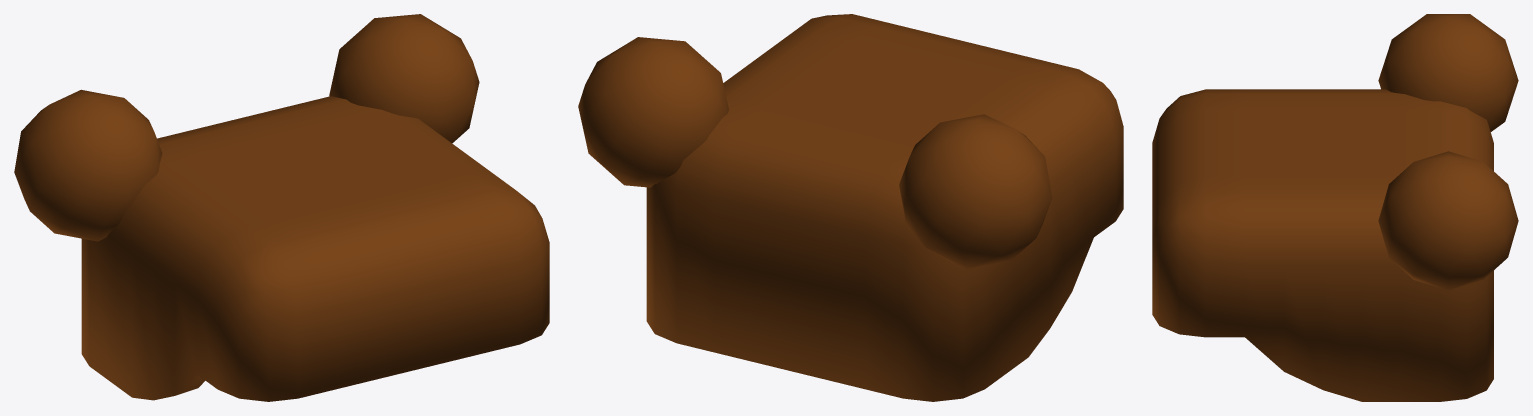
File: hairBuns.fbx
The picture shows the model from 3 angles, left to right: view 1: azimuth 30°, elevation 25°; view 2: azimuth 150°, elevation 25°; view 3: azimuth 270°, elevation 25°; orthographic projection. The views are drawn at different scales.
Parts seen in each view (by area): view 1: Buns Hair; view 2: Buns Hair; view 3: Buns Hair.
Part boxes in pixels (left/top/right/bottom): Buns Hair: left=14, top=14, right=549, bottom=401; Buns Hair: left=578, top=14, right=1123, bottom=401; Buns Hair: left=1152, top=14, right=1518, bottom=401.
Bounding box in the file's own units: 75.6 × 59.52 × 43.51.
